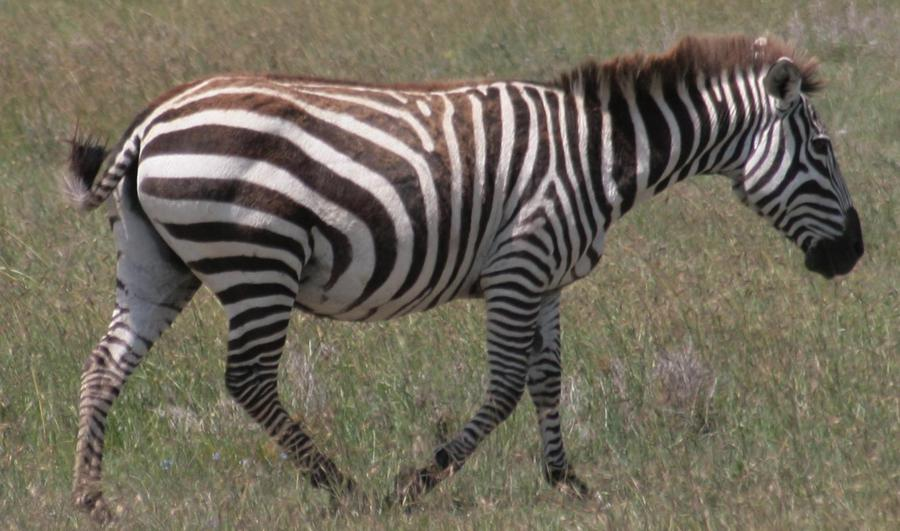zebra_plains: (158, 26, 616, 349)
